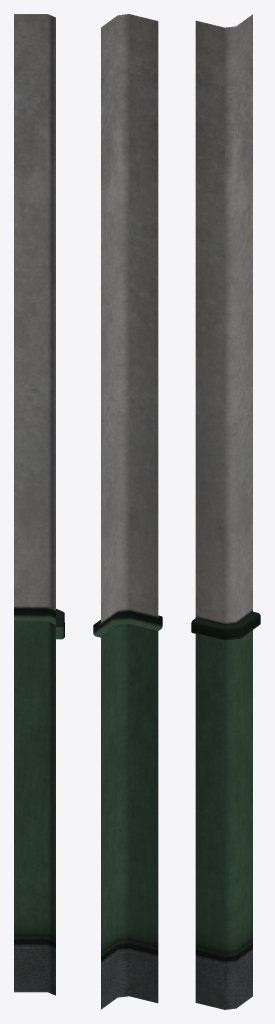
Rendered from Psychiatric_Ward_Infirmary_Wall_Corner.glb.
3 views of the same model, side by side, from view 1: azimuth 90°, elevation 25°; view 2: azimuth 150°, elevation 25°; view 3: azimuth 330°, elevation 25° (orthographic).
Visible parts, largest first — view 1: Psychiatric_Ward_Infirmary_Wall_Corner; view 2: Psychiatric_Ward_Infirmary_Wall_Corner; view 3: Psychiatric_Ward_Infirmary_Wall_Corner.
Boxes of the visible parts, x1,y1,x2,y2 form: Psychiatric_Ward_Infirmary_Wall_Corner: (14,14,64,995); Psychiatric_Ward_Infirmary_Wall_Corner: (93,14,162,1009); Psychiatric_Ward_Infirmary_Wall_Corner: (191,14,260,1009).
Bounding box in the file's own units: 0.1737 × 3.7 × 0.1737.
1 material, 1 textured.
